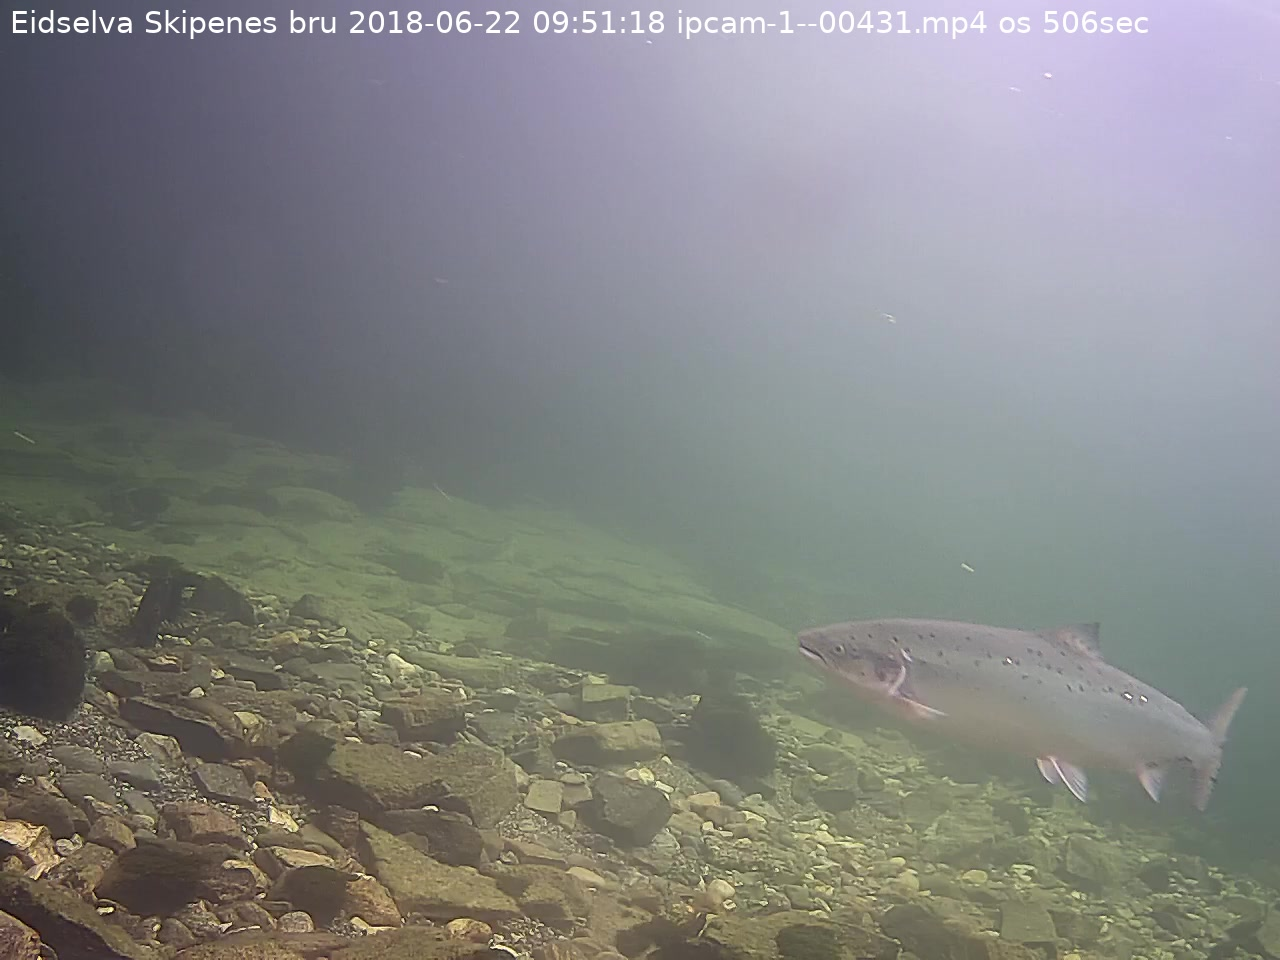salmon: (788, 607, 1257, 825)
